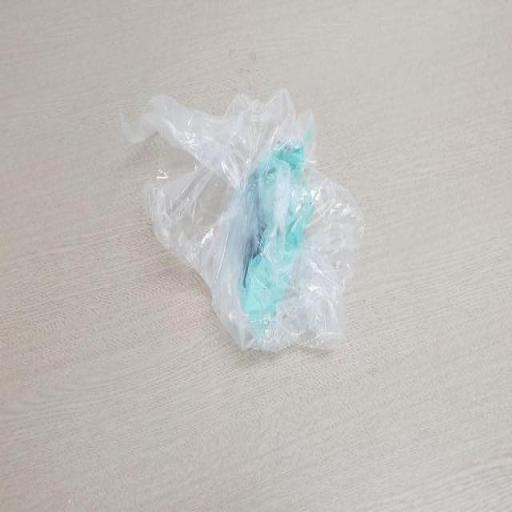plastic-bag: (116, 82, 366, 363)
